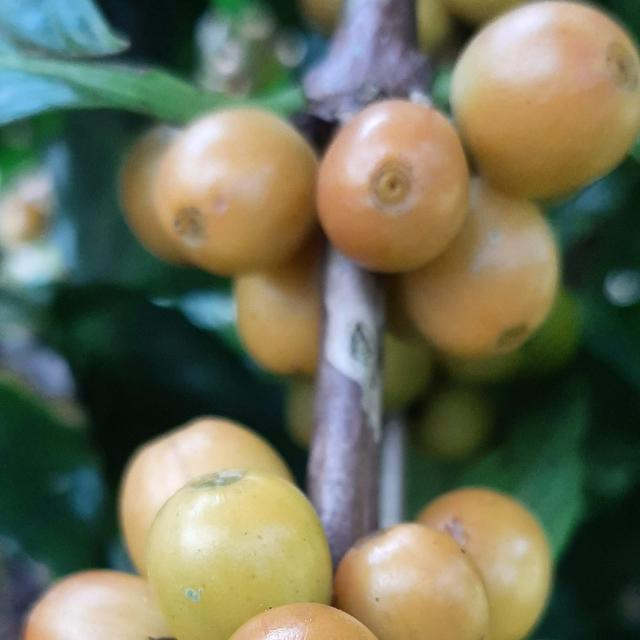red: (452, 1, 640, 198), (402, 176, 560, 358), (118, 417, 294, 578), (153, 108, 318, 276), (317, 99, 470, 273), (418, 489, 553, 640), (334, 524, 490, 640), (234, 229, 326, 375), (120, 124, 192, 265), (23, 572, 171, 640), (229, 604, 378, 640)
yellow: (146, 470, 332, 640)
